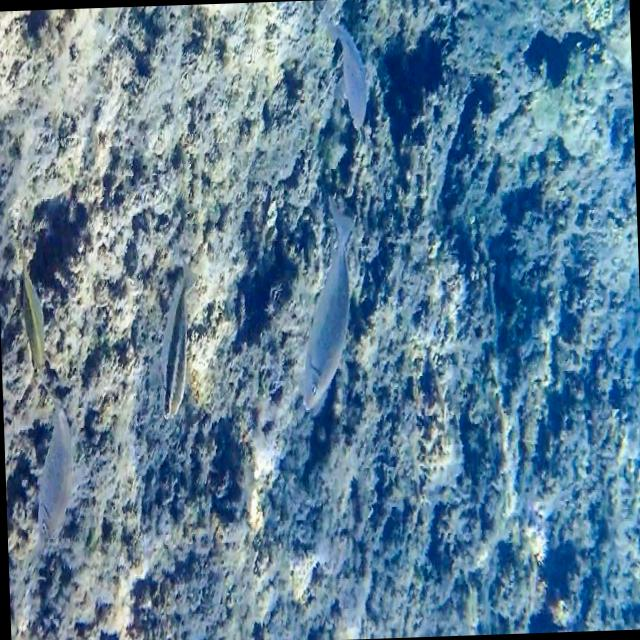Sokar Baligi: (280, 193, 368, 428), (316, 0, 374, 145)
